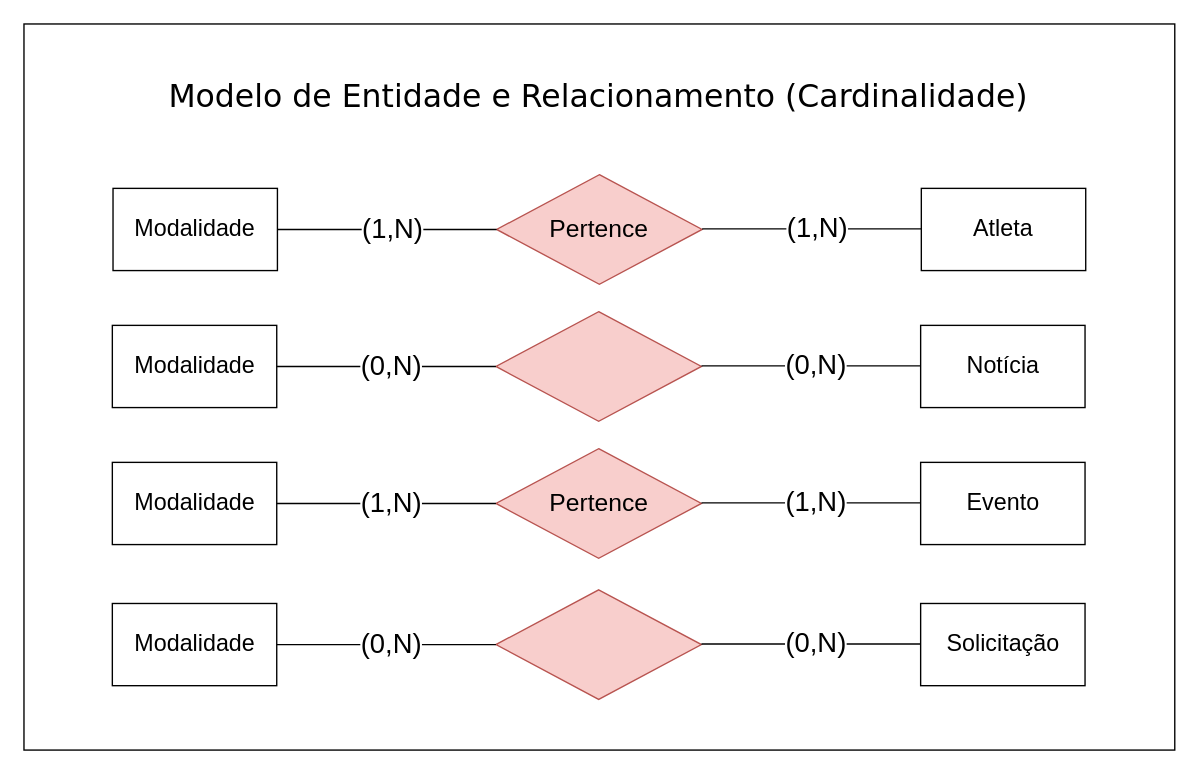
Some shapes in this 1199 by 774 pixel diagram are drawn without their labels. Each missing label, with the box of its shape:
Associa: (495, 310, 701, 421)
Recebe: (495, 588, 701, 699)
